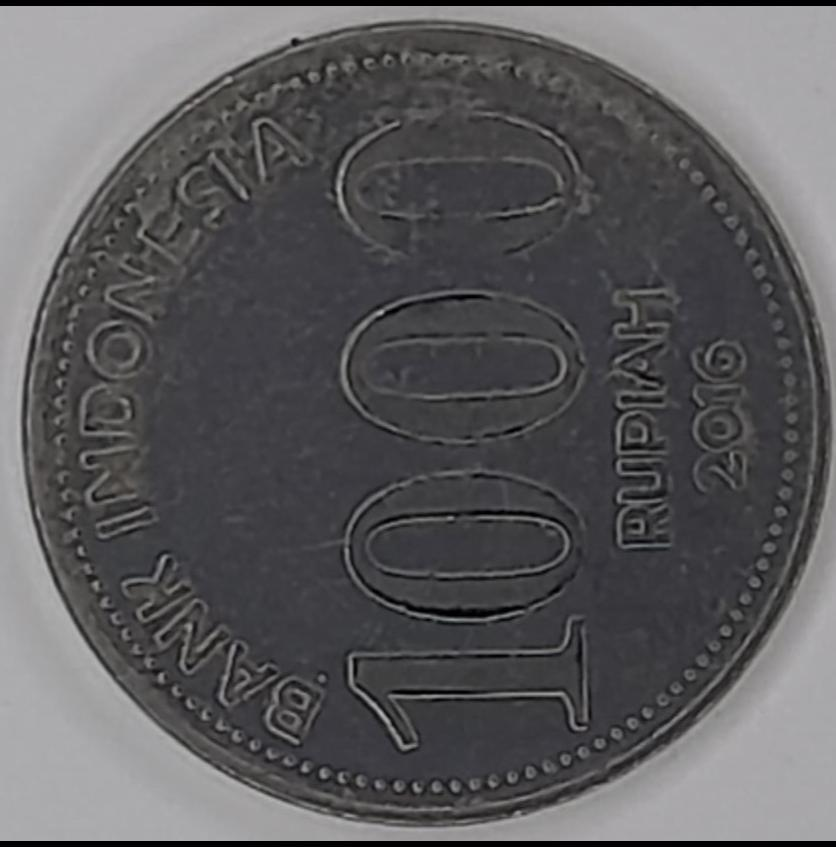coin_1000_e2016: (14, 17, 825, 847)
